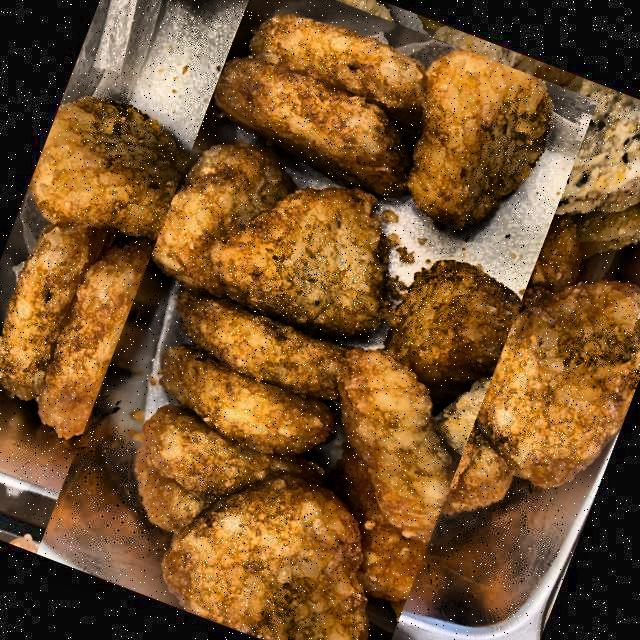Food: (0, 11, 638, 640)
